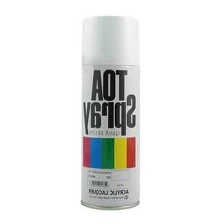aerosol_cans: (78, 11, 144, 212)
